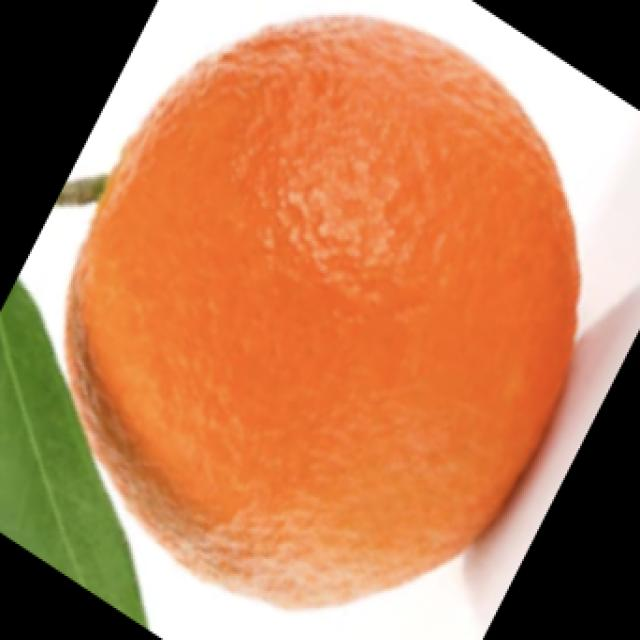orange: (69, 3, 599, 607)
